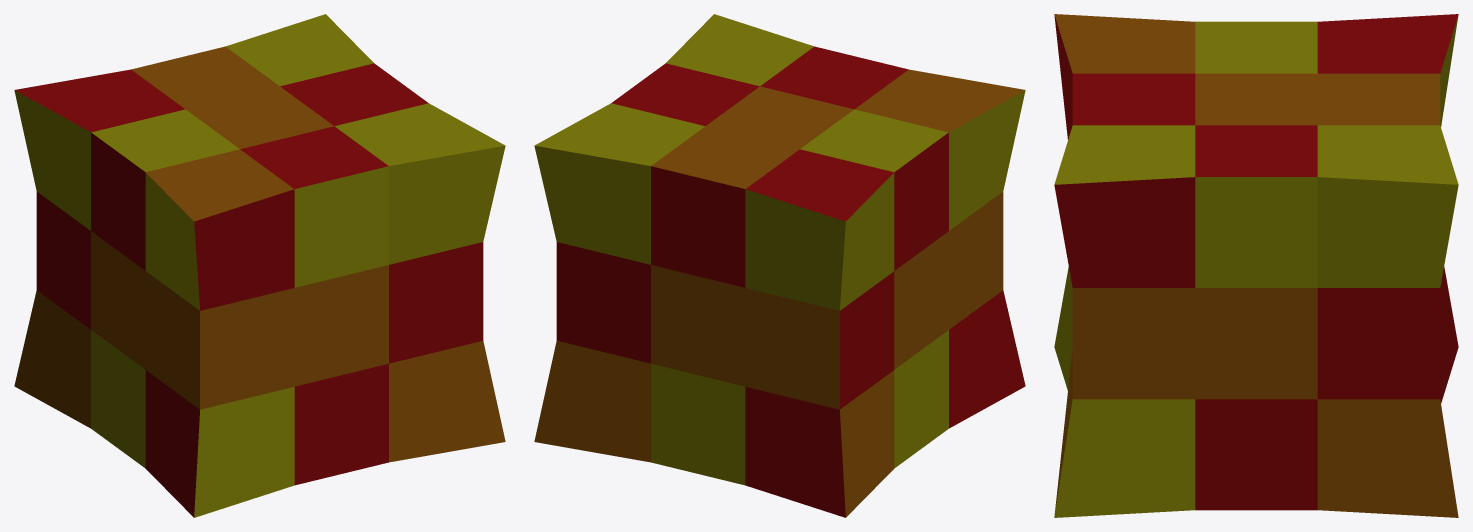
File: skin_5_2_model.fbx
The picture shows the model from 3 angles, left to right: view 1: azimuth 30°, elevation 25°; view 2: azimuth 150°, elevation 25°; view 3: azimuth 270°, elevation 25°; orthographic projection. The views are drawn at different scales.
Visible parts, largest first — view 1: Cube; view 2: Cube; view 3: Cube.
Boxes of the visible parts, bbox=[...] form: Cube: bbox=[14, 14, 505, 517]; Cube: bbox=[534, 14, 1025, 517]; Cube: bbox=[1054, 14, 1458, 517].
Size of the model in its own units: 220 by 200 by 220.
